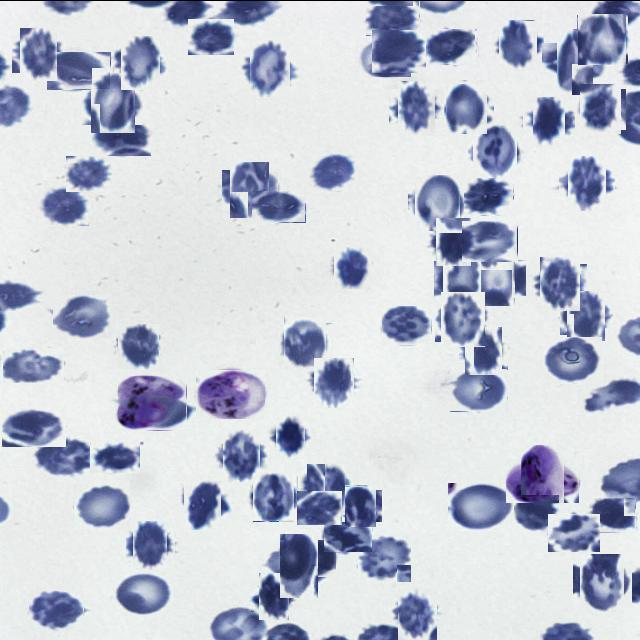difficult: (118, 375, 187, 430)
red blood cell: (448, 482, 514, 530), (543, 336, 603, 382), (86, 76, 139, 128), (576, 556, 628, 608), (412, 175, 462, 228), (74, 482, 130, 529), (114, 571, 172, 616), (272, 540, 324, 590), (53, 294, 112, 338), (358, 534, 412, 582), (2, 406, 66, 446), (450, 368, 508, 412), (550, 35, 600, 86), (470, 126, 520, 176), (245, 42, 295, 92), (438, 294, 488, 344), (578, 14, 628, 64), (34, 436, 96, 476), (47, 51, 111, 89), (92, 115, 151, 155), (462, 220, 518, 262), (372, 29, 426, 72), (281, 319, 329, 367), (226, 165, 274, 213), (442, 82, 490, 130), (536, 259, 583, 307), (438, 255, 486, 302), (2, 347, 64, 383), (118, 38, 164, 86), (29, 590, 84, 630), (564, 160, 610, 207), (218, 432, 264, 478), (180, 479, 226, 525), (578, 86, 624, 132), (475, 254, 521, 300), (311, 358, 357, 404), (394, 590, 440, 636), (16, 30, 62, 76), (394, 84, 439, 130), (304, 466, 349, 512), (283, 539, 337, 577), (250, 474, 296, 518), (496, 22, 540, 68), (382, 305, 432, 345), (38, 186, 89, 225), (563, 293, 608, 337), (548, 513, 600, 551), (424, 28, 478, 64), (464, 177, 514, 215), (117, 323, 160, 367), (366, 0, 420, 35), (360, 39, 411, 76), (462, 329, 505, 372), (512, 494, 559, 532), (324, 514, 372, 551), (130, 524, 172, 566), (432, 220, 474, 262), (528, 101, 570, 143), (309, 153, 356, 190), (252, 190, 306, 222), (332, 246, 372, 288), (188, 18, 234, 54), (589, 497, 636, 532), (66, 155, 111, 191), (90, 441, 140, 472), (297, 490, 342, 524), (255, 576, 294, 615), (342, 486, 380, 524), (272, 418, 308, 454)
trophozoite: (514, 450, 572, 510), (194, 369, 264, 418)
